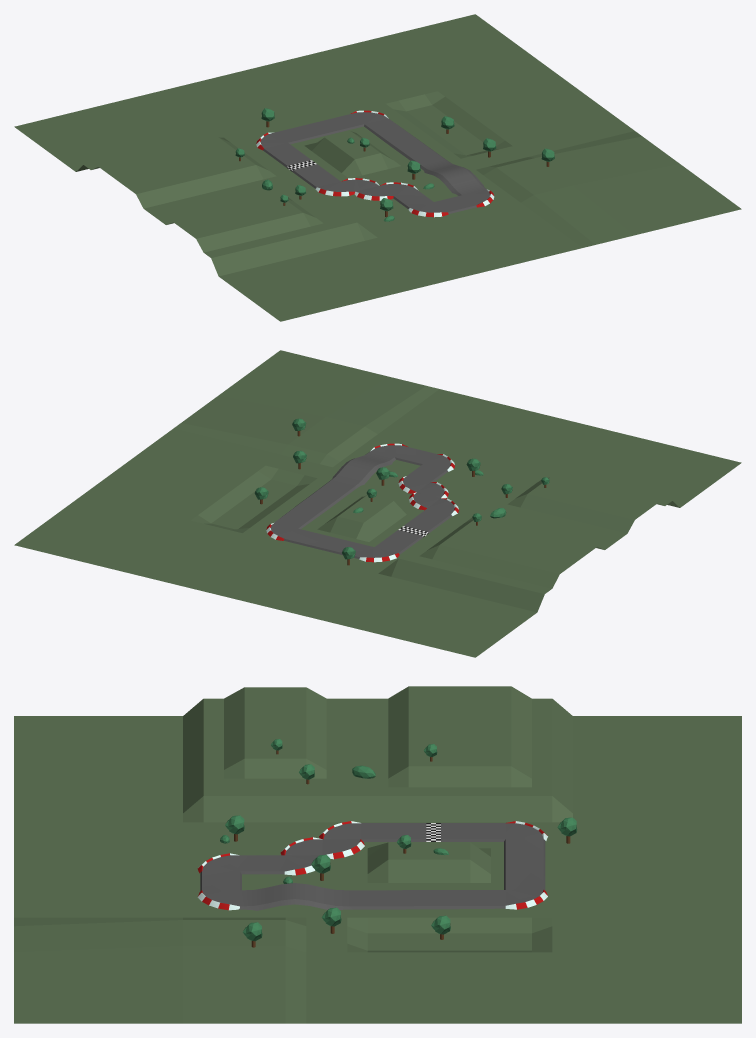
File: Terrain.fbx
The picture shows the model from 3 angles, top to bottom: view 1: azimuth 30°, elevation 25°; view 2: azimuth 150°, elevation 25°; view 3: azimuth 270°, elevation 25°; orthographic projection. The views are drawn at different scales.
Parts seen in each view (by area): view 1: Terrain, Track; view 2: Terrain, Track; view 3: Terrain, Track.
Part boxes in pixels (<box>): Terrain: <box>14,14,741,321</box>; Track: <box>256,110,494,217</box>; Terrain: <box>14,350,741,657</box>; Track: <box>266,443,458,562</box>; Terrain: <box>14,686,741,1023</box>; Track: <box>197,821,547,910</box>.
Bounding box in the file's own units: 24501 × 2055 × 24501.
